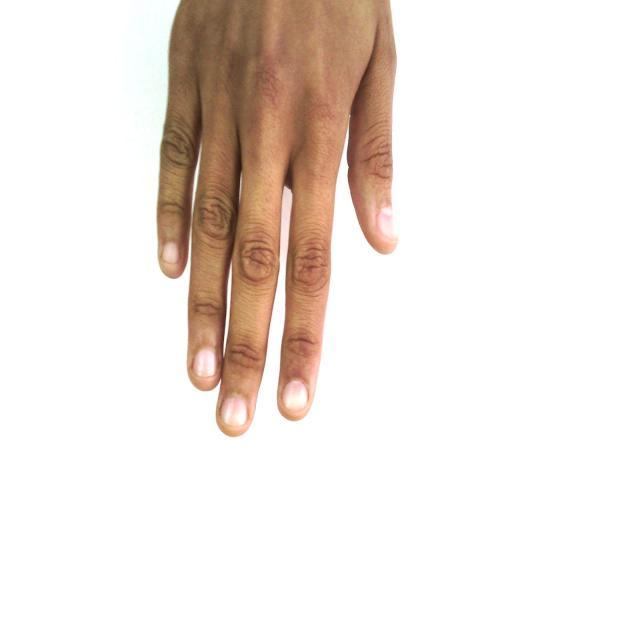Fingernail: (280, 381, 307, 413), (221, 394, 247, 426), (192, 349, 217, 378), (378, 207, 397, 239), (163, 241, 180, 263)
